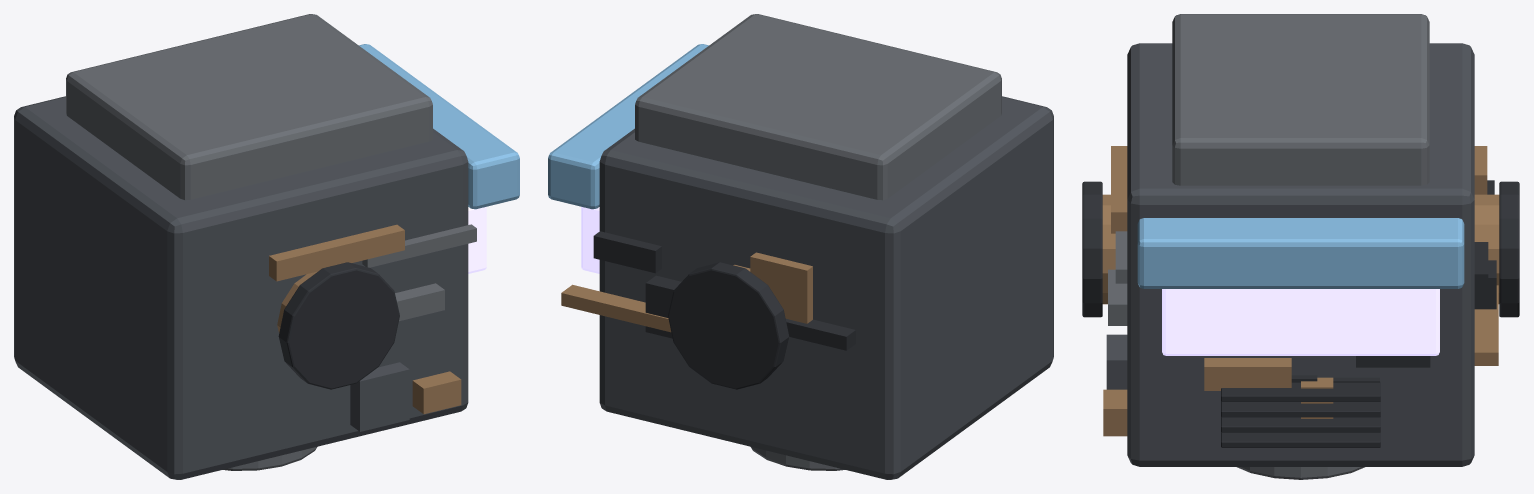
Rendered from module_head_standard.fbx.
The picture shows the model from 3 angles, left to right: view 1: azimuth 30°, elevation 25°; view 2: azimuth 150°, elevation 25°; view 3: azimuth 270°, elevation 25°; orthographic projection. The views are drawn at different scales.
Visible parts, largest first — view 1: SM_Module_HeadStandard; view 2: SM_Module_HeadStandard; view 3: SM_Module_HeadStandard.
Boxes of the visible parts, x1,y1,x2,y2 form: SM_Module_HeadStandard: (14, 14, 519, 479); SM_Module_HeadStandard: (548, 14, 1053, 479); SM_Module_HeadStandard: (1082, 14, 1519, 479).
Size of what is drawn, in the model's own units: 42.5 by 40.3 by 42.8.
